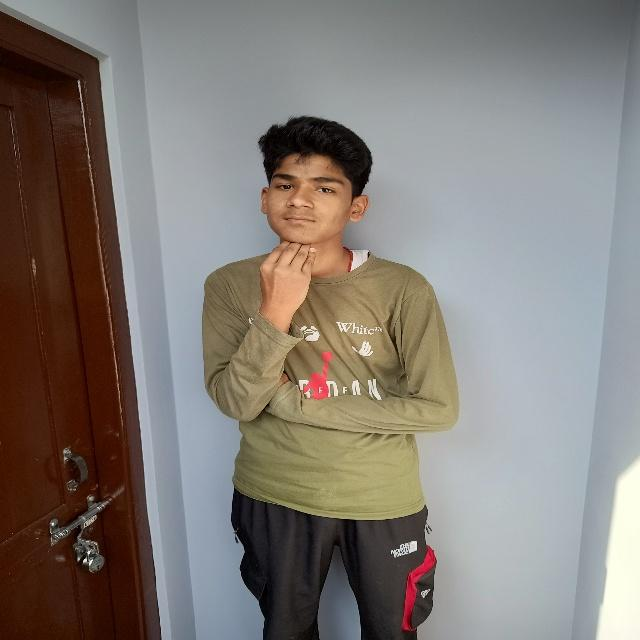Chin Flick: (247, 118, 381, 338)
